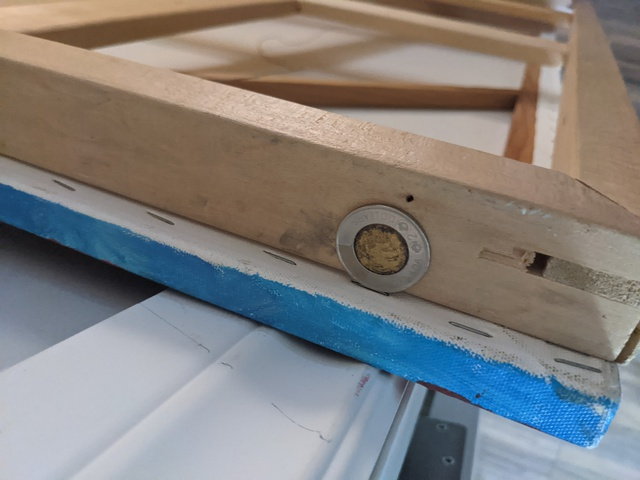twonie: (321, 191, 433, 303)
